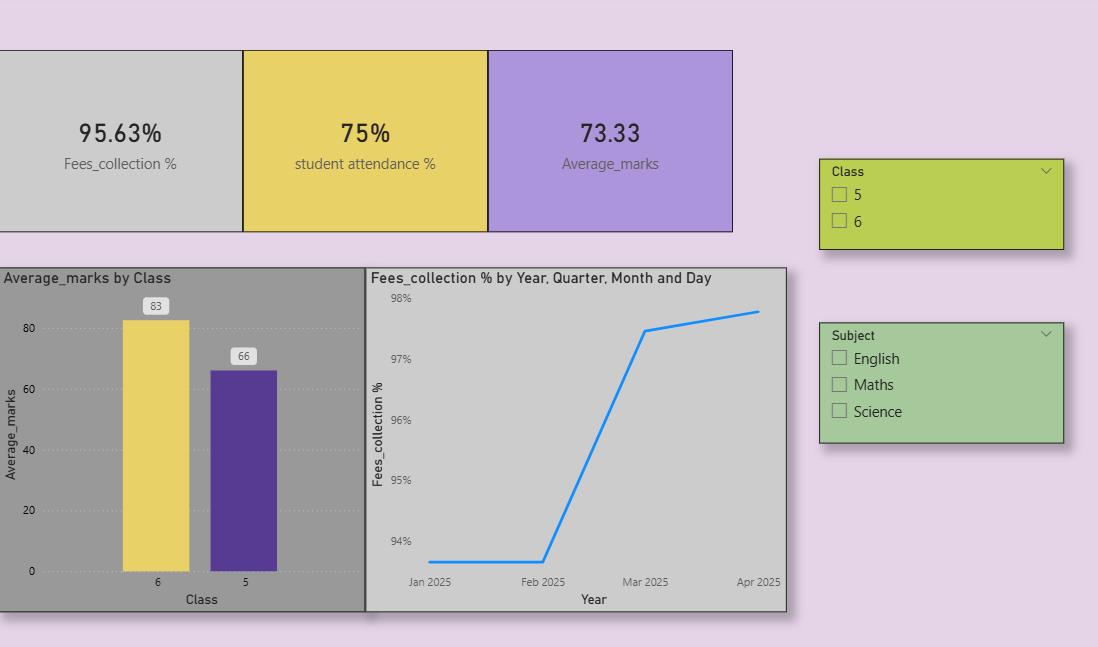

What the dashboard file says about the page in this screenshot:
{"tool":"powerbi","page":{"name":"Page School Operations Dashboard","canvas":[1280,720],"ordinal":0},"visuals":[{"type":"card","fields":{"Values":["student_attendance.student attendance %"]},"box":[269,11,269,200.3],"z":0},{"type":"card","fields":{"Values":["academic_sources.Average_marks"]},"box":[537.9,11,269,200.3],"z":1000},{"type":"card","fields":{"Values":["fee_collection.Fees_collection %"]},"box":[0,11,269,200.3],"z":2000},{"type":"lineClusteredColumnComboChart","fields":{"Category":["dim_class.Class"],"Y":["academic_sources.Average_marks"]},"box":[0,263.5,332.1,378.7],"z":3000},{"type":"lineChart","fields":{"Y":["fee_collection.Fees_collection %"],"Category":["fee_collection.Month.Variation.Date Hierarchy.Year","fee_collection.Month.Variation.Date Hierarchy.Quarter","fee_collection.Month.Variation.Date Hierarchy.Month","fee_collection.Month.Variation.Date Hierarchy.Day"]},"box":[408.9,263.5,462.4,378.7],"z":4000},{"type":"slicer","fields":{"Values":["dim_class.Class"]},"box":[890.6,60.4,269,100.2],"z":5000},{"type":"slicer","fields":{"Values":["academic_sources.Subject"]},"box":[904.3,263.5,269,133.1],"z":6000}]}

Visuals, with their boxes on the page's 1280x720 design canvas (x1, y1, x2, y2). These are canvas units, not pixel positions in the 1098x647 screenshot, which may show the page scaled, cropped or inside an application window:
card - student_attendance.student attendance %: locate(269, 11, 538, 211)
card - academic_sources.Average_marks: locate(538, 11, 807, 211)
card - fee_collection.Fees_collection %: locate(0, 11, 269, 211)
lineClusteredColumnComboChart - dim_class.Class x academic_sources.Average_marks: locate(0, 264, 332, 642)
lineChart - fee_collection.Fees_collection % x fee_collection.Month.Variation.Date Hierarchy.Year: locate(409, 264, 871, 642)
slicer - dim_class.Class: locate(891, 60, 1160, 161)
slicer - academic_sources.Subject: locate(904, 264, 1173, 397)
